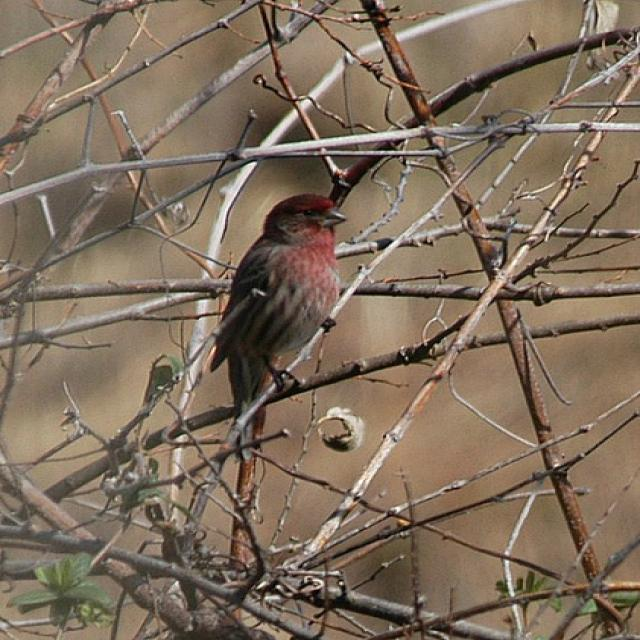bird: (209, 193, 348, 439)
